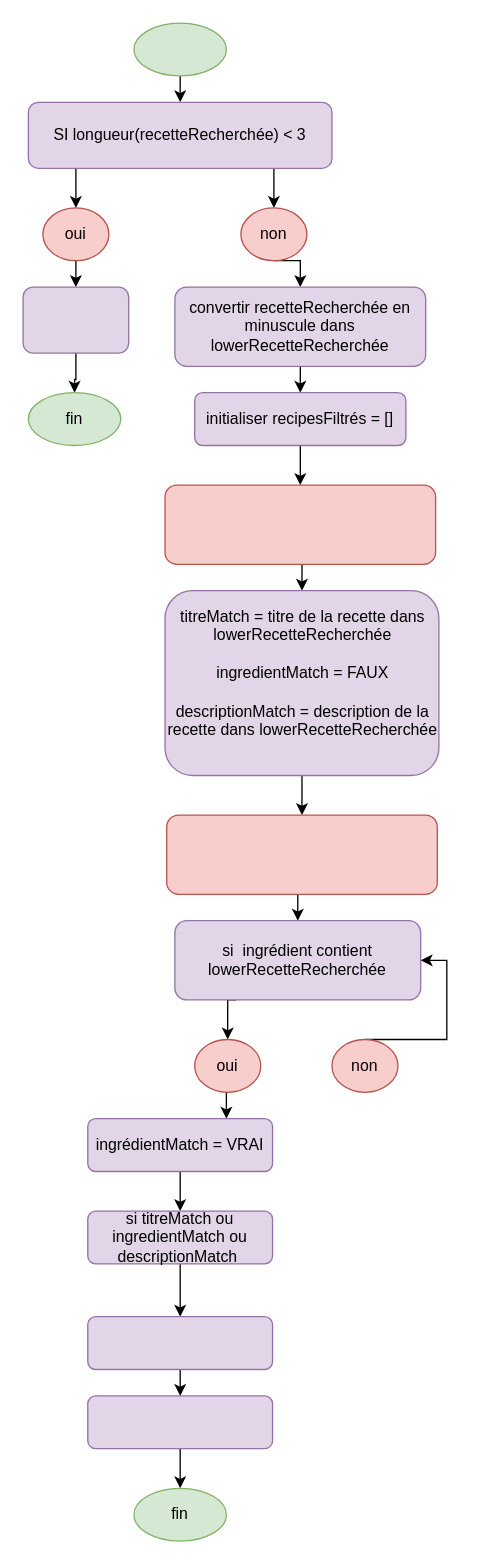
The diagram is 480 pixels wide and 1564 high, and some of its shapes have lost their labels. The centre of each missing label's shape, as x and y in pixels:
"ajouter recette à recipesFiltrés" belongs at (179,1342).
"début" belongs at (179,49).
"pour chaque ingrédient dans ingrédients de la recette faire :" belongs at (301,854).
"pour chaque recette dans recipes faire :" belongs at (300,524).
"retourner []" belongs at (75,319).
"retourner recipesFiltrés" belongs at (179,1422).
